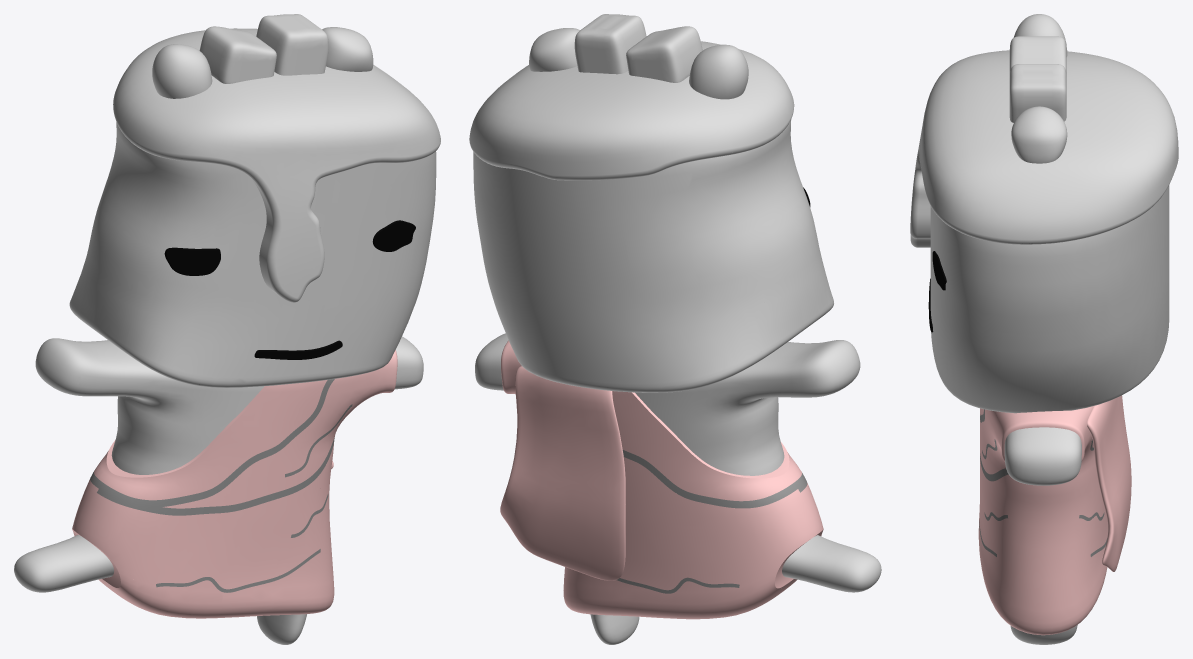
3 views of the same model, side by side, from view 1: azimuth 30°, elevation 25°; view 2: azimuth 150°, elevation 25°; view 3: azimuth 270°, elevation 25° (orthographic). The views are drawn at different scales.
Visible parts, largest first — view 1: 040_hottosan_ooita; view 2: 040_hottosan_ooita; view 3: 040_hottosan_ooita.
Boxes of the visible parts, bbox=[...] form: 040_hottosan_ooita: bbox=[14, 14, 440, 644]; 040_hottosan_ooita: bbox=[469, 14, 881, 644]; 040_hottosan_ooita: bbox=[910, 14, 1178, 644].
Size of the model in its own units: 0.1207 by 0.1817 by 0.0761.
